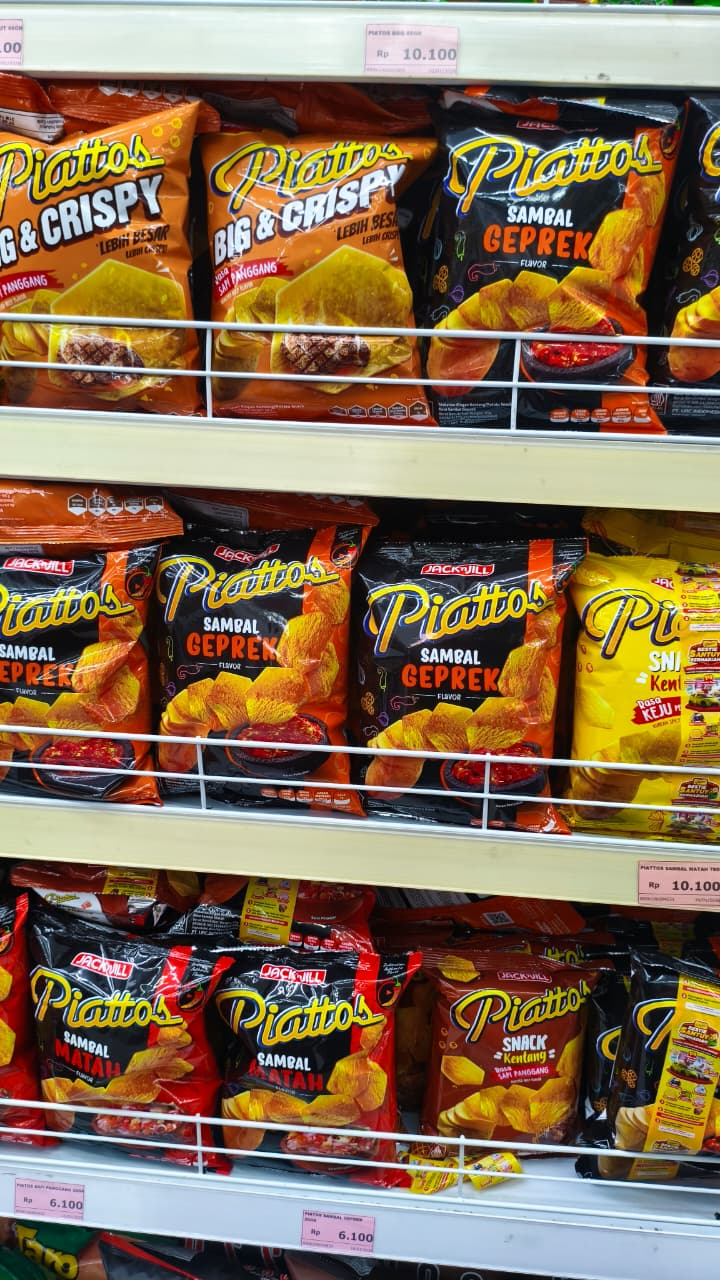Piatos: (438, 121, 667, 293), (127, 537, 356, 709), (364, 557, 593, 729), (192, 955, 421, 1127)
